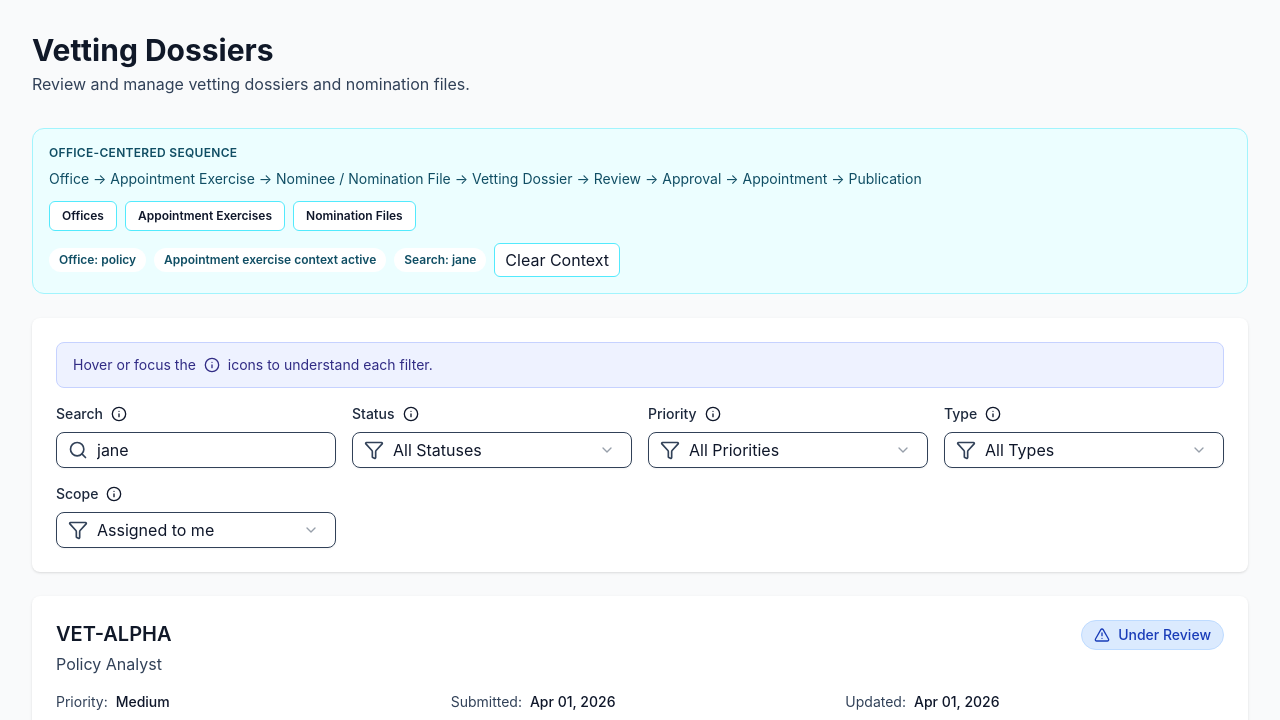
ApplicationsPage scope fetching › clears q, office, and exercise context filters
Expected: the text "Office: policy" is shown, [49, 248, 146, 272]
Expected: the text "Appointment exercise context active" is shown, [154, 248, 386, 272]
Click the button "Clear Context".
click(557, 260)  # box [494, 243, 620, 277]
(page scrolled)
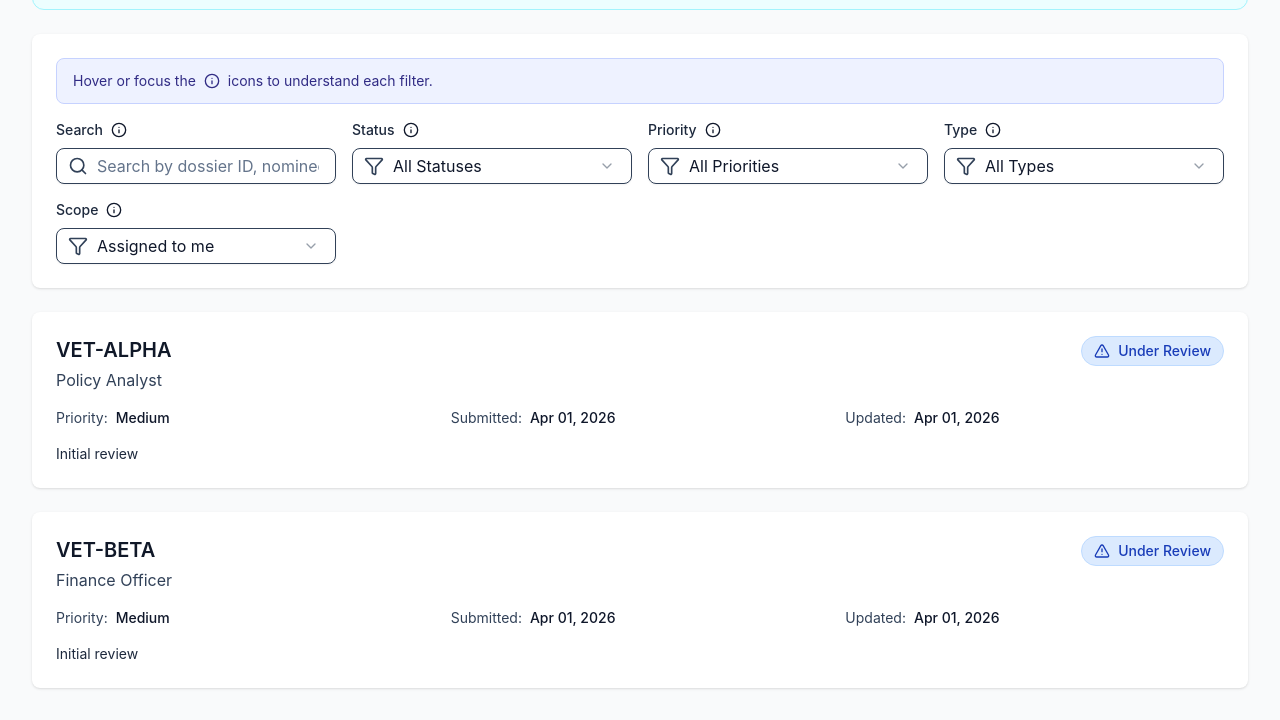
Expected: the text "Search: jane" is gone
Expected: the text "Office: policy" is gone
Expected: the text "Appointment exercise context active" is gone
